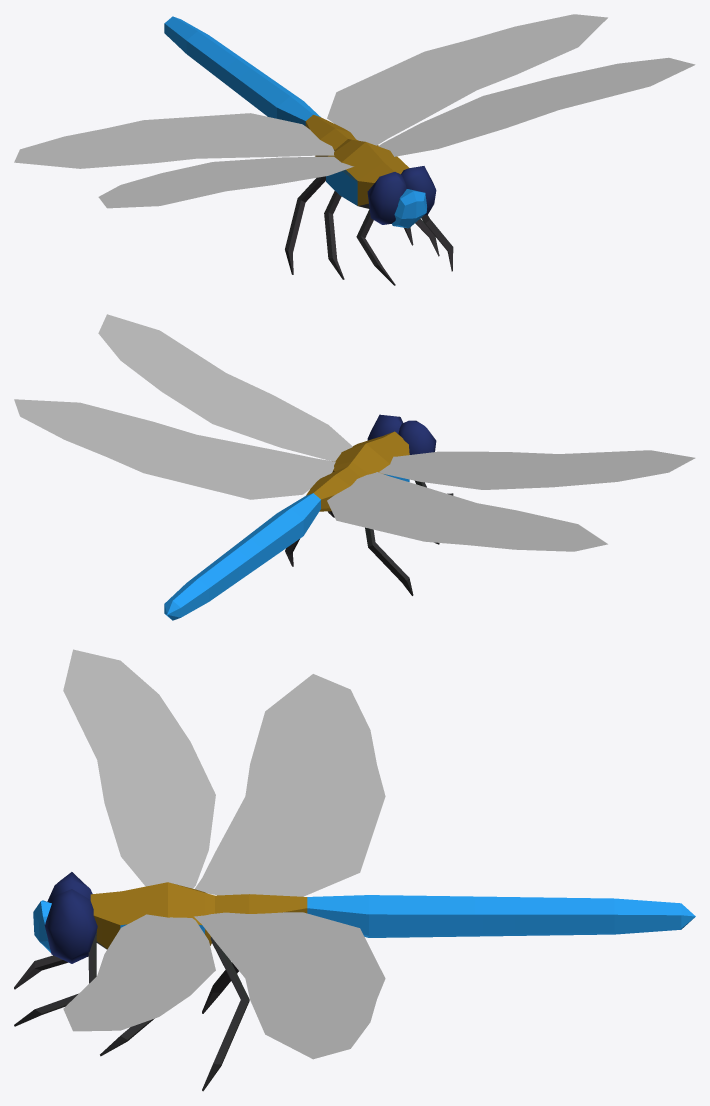
File: dragonfly.glb
3 renders of one model, top to bottom at view 1: azimuth 30°, elevation 25°; view 2: azimuth 150°, elevation 25°; view 3: azimuth 270°, elevation 25°, orthographic. The views are drawn at different scales.
Visible parts, largest first — view 1: Geo_Dragonfly; view 2: Geo_Dragonfly; view 3: Geo_Dragonfly.
Part boxes in pixels (bbox=[...]): Geo_Dragonfly: bbox=[14, 14, 695, 285]; Geo_Dragonfly: bbox=[14, 314, 695, 620]; Geo_Dragonfly: bbox=[14, 649, 695, 1091].
Bounding box in the file's own units: 13.33 × 3.42 × 9.96.
2 materials, 1 textured.
